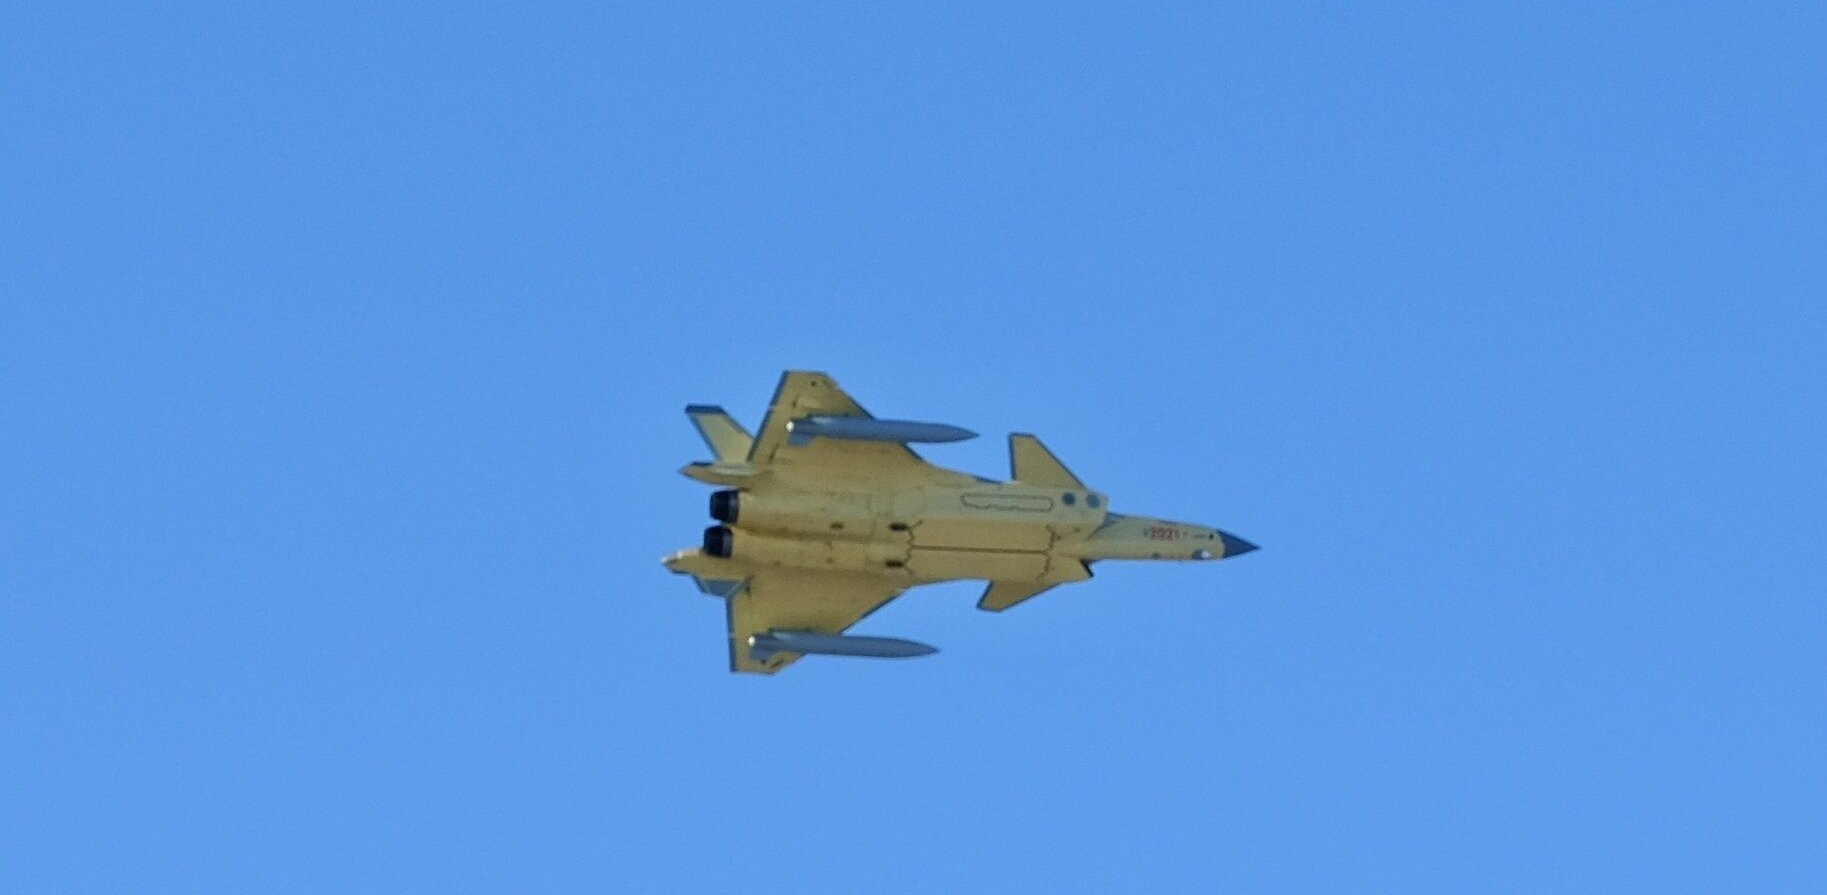J20: (657, 368, 1263, 677)
